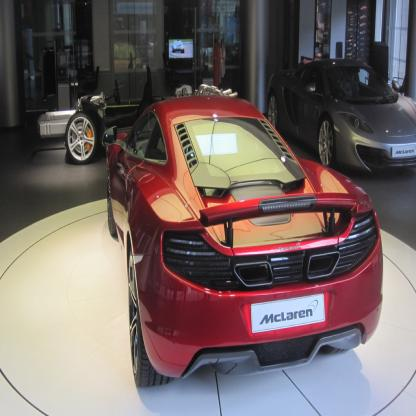Car: (101, 95, 385, 385), (267, 59, 416, 169), (66, 66, 176, 166)
